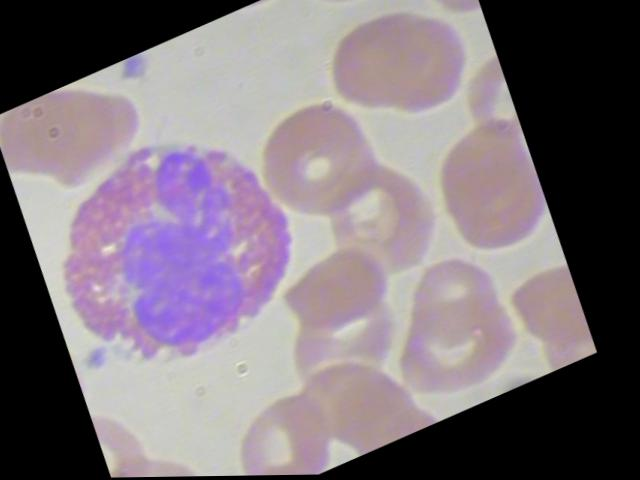Platelets: (112, 48, 165, 93)
Red Blood Cells: (378, 273, 548, 422), (240, 77, 401, 227), (306, 0, 467, 138), (386, 233, 538, 366), (219, 372, 361, 476), (295, 0, 425, 37)
White Blood Cells: (10, 84, 356, 408)
